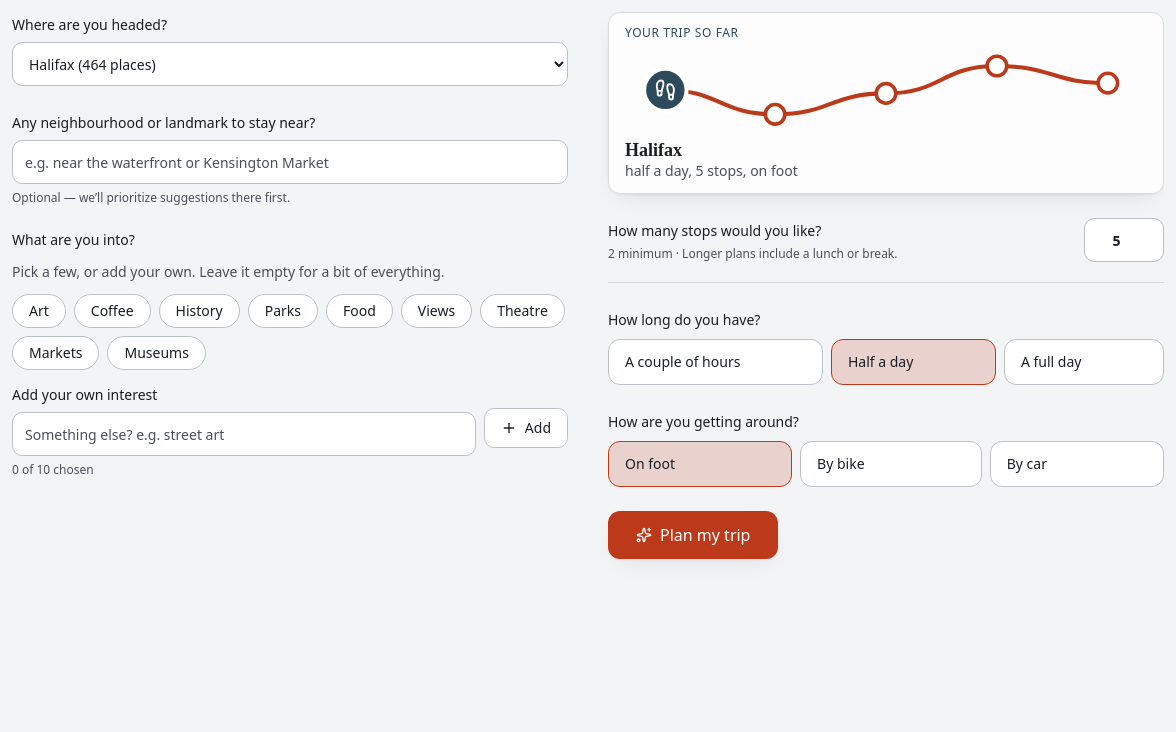
PlanForm feedback › asks for text when Add is pressed with nothing typed
Click the button "Add".
click(526, 428)  # box [484,408,568,448]
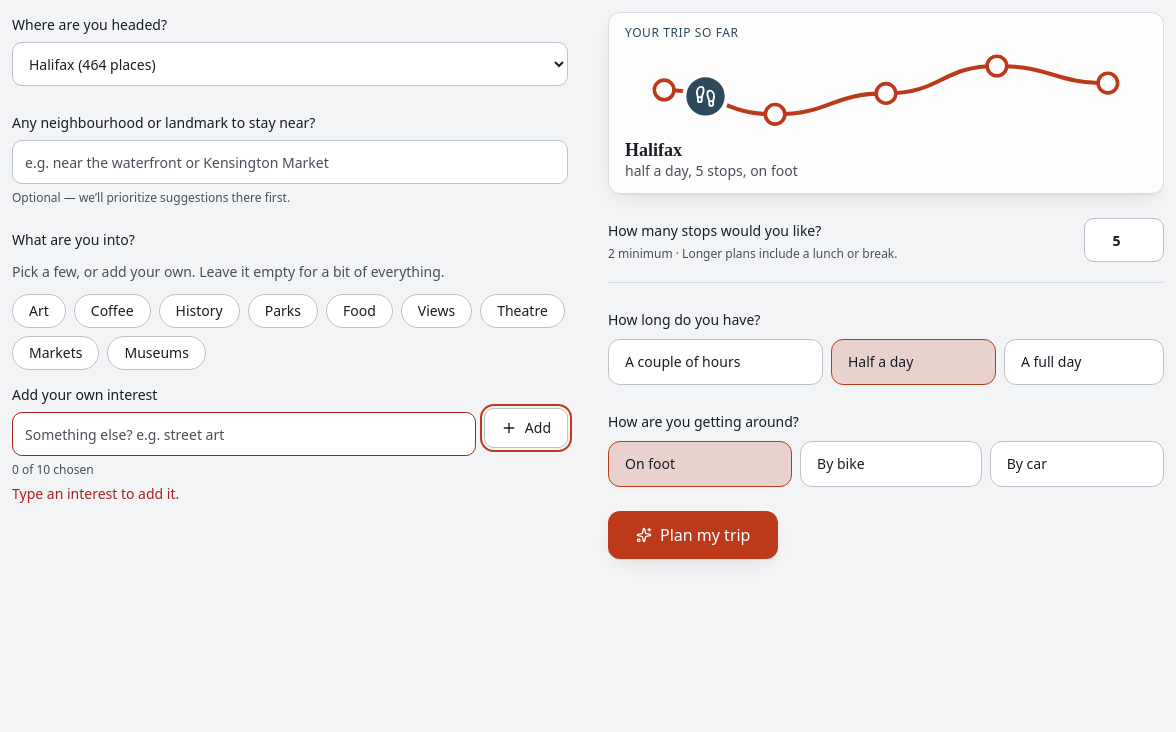
expect the text "Type an interest to add it." is shown: met, box [12,484,179,503]
